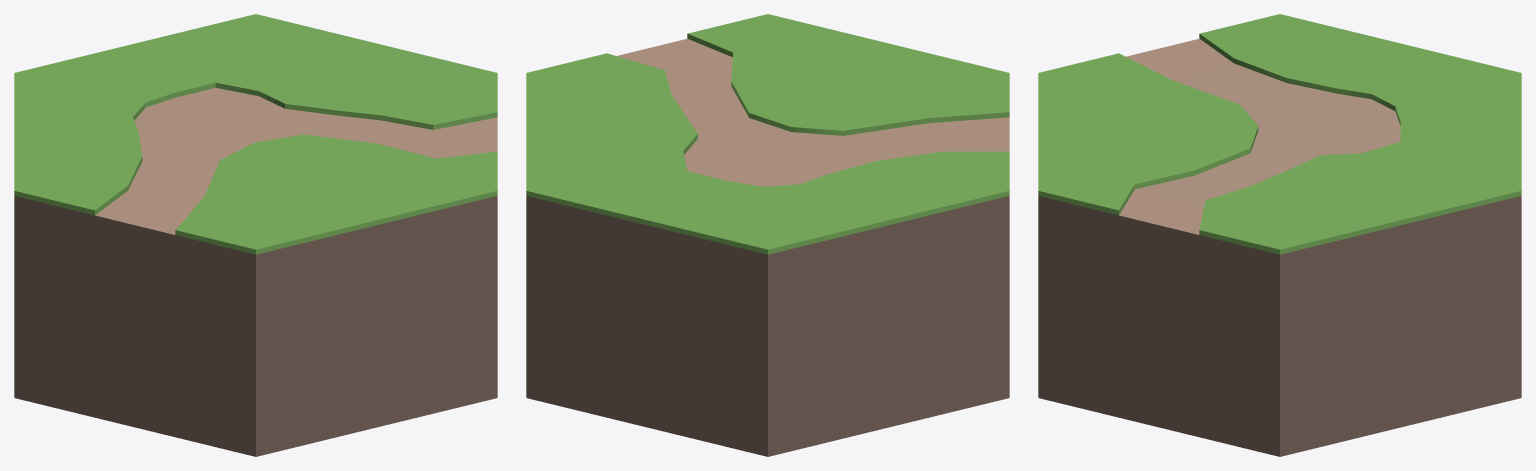
Rendered from Tile_road09.fbx.
3 views of the same model, side by side, from view 1: azimuth 30°, elevation 25°; view 2: azimuth 150°, elevation 25°; view 3: azimuth 270°, elevation 25° (orthographic).
Visible parts, largest first — view 1: Tile_Road; view 2: Tile_Road; view 3: Tile_Road.
Boxes of the visible parts, x1,y1,x2,y2 form: Tile_Road: [14, 14, 497, 456]; Tile_Road: [526, 14, 1009, 456]; Tile_Road: [1038, 14, 1521, 456].
Bounding box in the file's own units: 2 × 0.8239 × 1.73.
